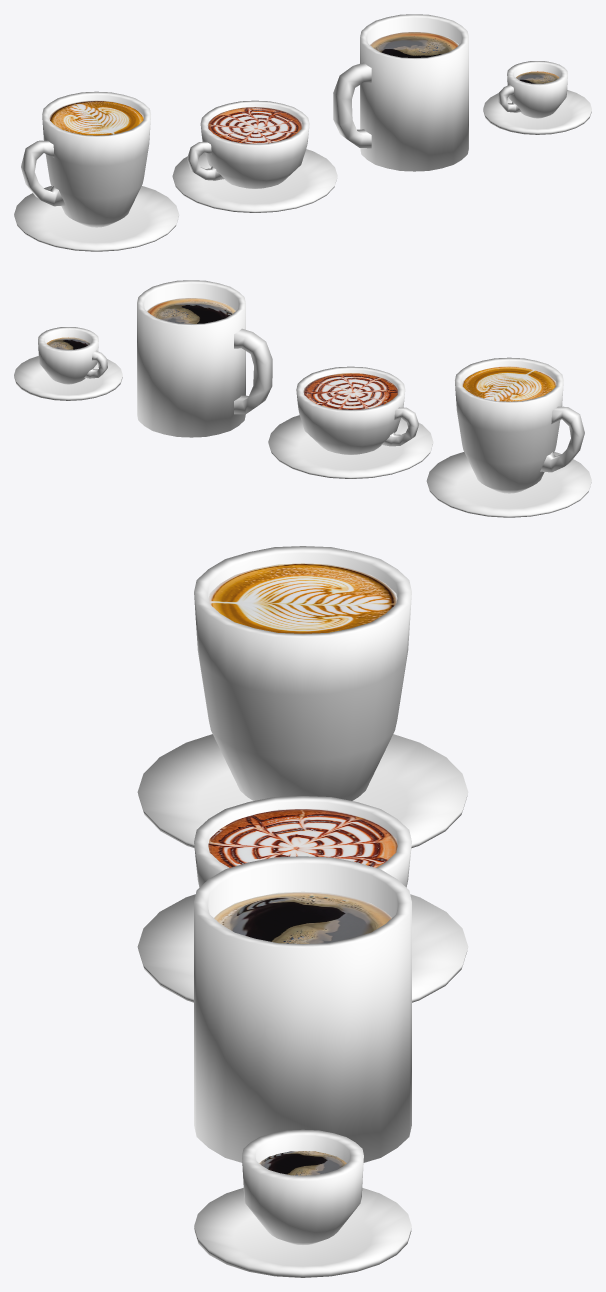
File: coffee-cups-low-poly-e1ba83.glb
3 renders of one model, top to bottom at view 1: azimuth 30°, elevation 25°; view 2: azimuth 150°, elevation 25°; view 3: azimuth 270°, elevation 25°, orthographic. The views are drawn at different scales.
Parts seen in each view (by area): view 1: PropMesh; view 2: PropMesh; view 3: PropMesh.
Part boxes in pixels (<box>): PropMesh: <box>14,14,591,251</box>; PropMesh: <box>14,280,591,517</box>; PropMesh: <box>137,546,468,1277</box>.
Bounding box in the file's own units: 0.45 × 0.0853 × 0.1149.
Materials: 3 (3 with a texture image).
